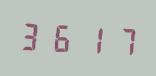one: (76, 19, 104, 57)
seven: (105, 21, 133, 58)
six: (47, 18, 75, 55)
three: (18, 16, 46, 54)
